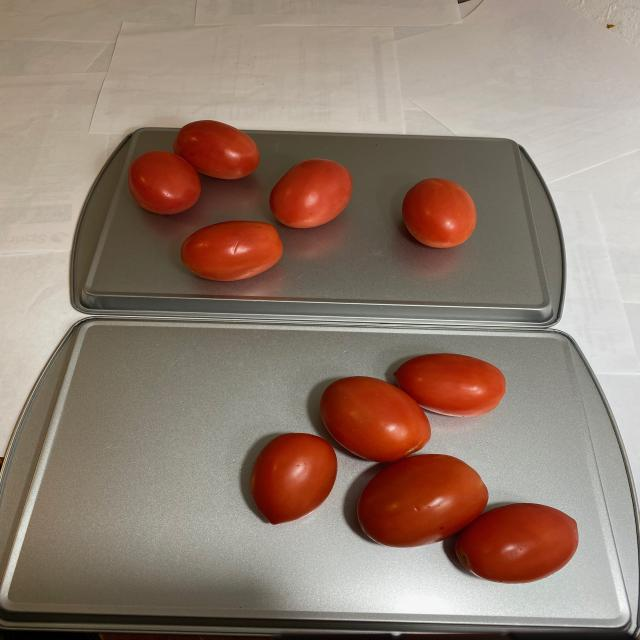tomato: (243, 350, 576, 580), (125, 119, 475, 284)
